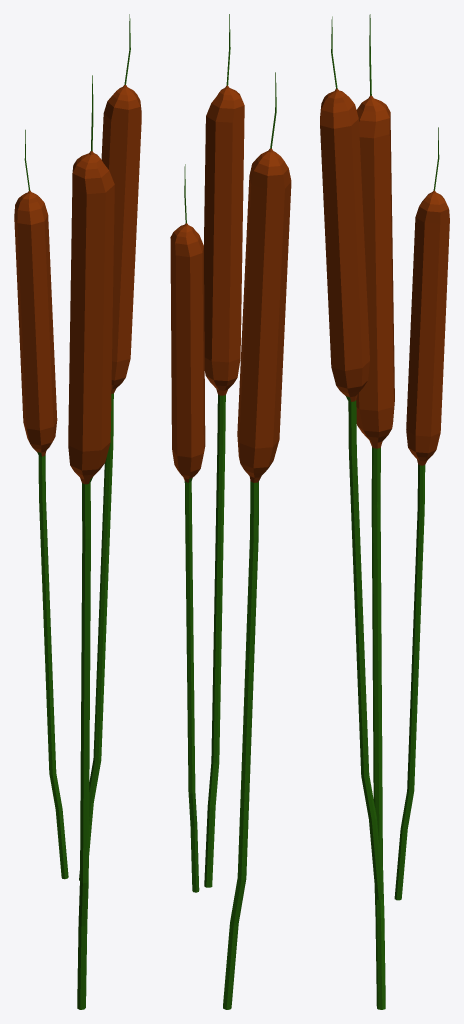
Rendered from Reeds.fbx.
3 views of the same model, side by side, from view 1: azimuth 90°, elevation 25°; view 2: azimuth 150°, elevation 25°; view 3: azimuth 270°, elevation 25° (orthographic). The views are drawn at different scales.
Visible parts, largest first — view 1: Cylinder.002, Cylinder.001, Cylinder; view 2: Cylinder.002, Cylinder, Cylinder.001; view 3: Cylinder, Cylinder.002, Cylinder.001.
Boxes of the visible parts, <box> form: Cylinder.002: <box>68,75,114,1009</box>; Cylinder.001: <box>14,129,68,879</box>; Cylinder: <box>79,14,141,880</box>; Cylinder.002: <box>223,72,291,1009</box>; Cylinder: <box>204,14,244,887</box>; Cylinder.001: <box>170,164,205,892</box>; Cylinder: <box>320,16,383,899</box>; Cylinder.002: <box>356,14,394,1009</box>; Cylinder.001: <box>394,127,449,900</box>.
Size of the model in its own units: 163 by 1604 by 188.
